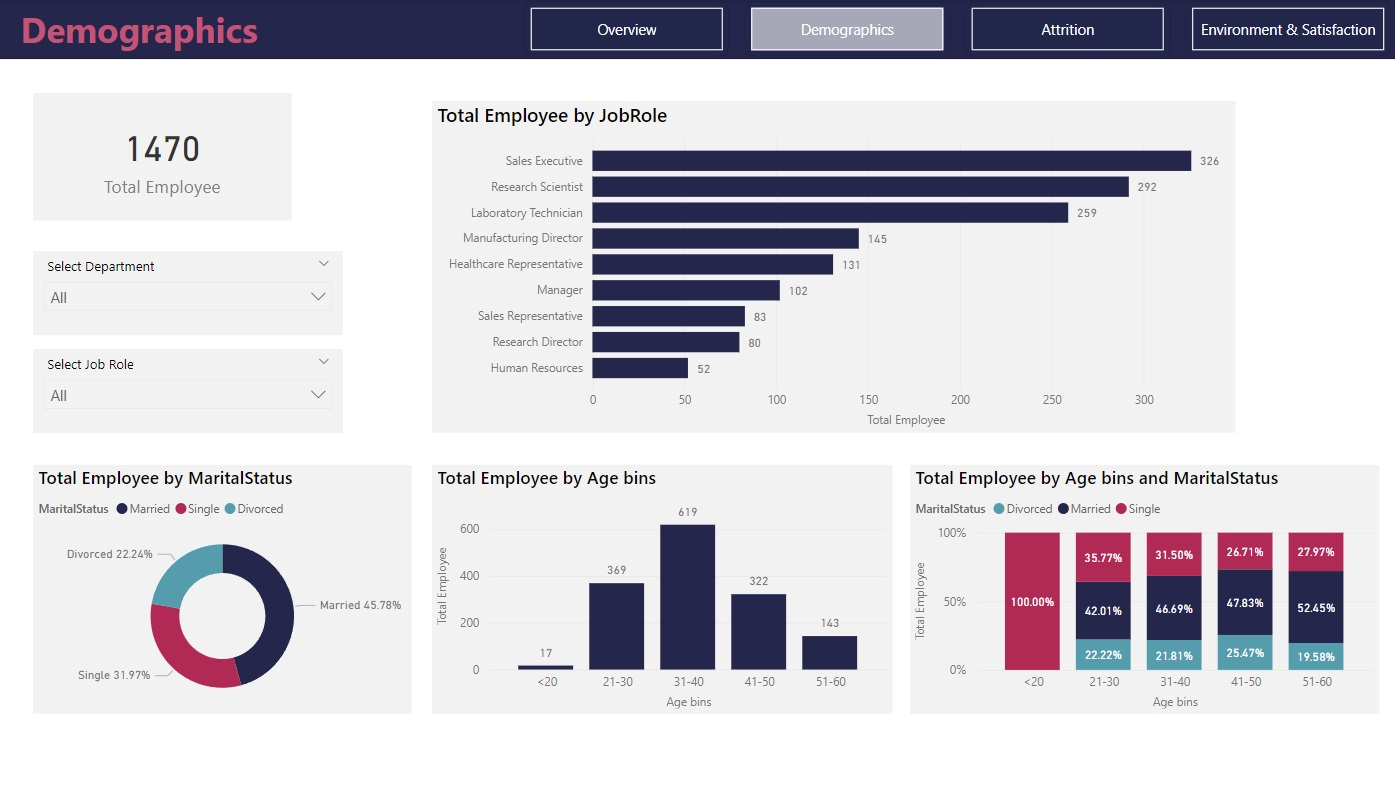

Layout of this report page (visuals, bound fields, positions):
{"tool":"powerbi","page":{"name":"Demographics","canvas":[1280,720],"ordinal":1},"visuals":[{"type":"donutChart","fields":{"Category":["Attrition_Performance.MaritalStatus"],"Y":["_Measures.Total Employee"]},"box":[31.2,426.7,346.9,228.4],"z":0},{"type":"hundredPercentStackedColumnChart","fields":{"Category":["Attrition_Performance.Age bins"],"Series":["Attrition_Performance.MaritalStatus"],"Y":["_Measures.Total Employee"]},"box":[835,426.7,429.9,228.4],"z":1000},{"type":"card","fields":{"Values":["_Measures.Total Employee"]},"box":[31.2,86.2,237,117.4],"z":2000},{"type":"clusteredColumnChart","fields":{"Category":["Attrition_Performance.Age bins"],"Y":["_Measures.Total Employee"]},"box":[396.5,426.7,422.4,228.4],"z":3000},{"type":"clusteredBarChart","fields":{"Category":["Attrition_Performance.JobRole"],"Y":["_Measures.Total Employee"]},"box":[396.5,93.7,735.9,303.8],"z":4000},{"type":"shape","box":[0,0,1280,55],"z":5000},{"type":"textbox","box":[15.1,0,242.4,58.2],"z":6000},{"type":"pageNavigator","box":[479.5,0,800.5,55],"z":7000},{"type":"slicer","title":"Select Job Role","fields":{"Values":["Attrition_Performance.JobRole"]},"box":[31.5,320.5,283.9,77.3],"z":8000},{"type":"slicer","title":"Select Job Role","fields":{"Values":["Attrition_Performance.Department"]},"box":[31.5,231,283.9,77.3],"z":9000}]}

Visuals, with their boxes in screenshot pixels (x1, y1, x2, y2), scaled from the page's 1280x720 canvas onto the 1395x785 screenshot:
donutChart - Attrition_Performance.MaritalStatus x _Measures.Total Employee: [x1=34, y1=465, x2=412, y2=714]
hundredPercentStackedColumnChart - Attrition_Performance.Age bins x Attrition_Performance.MaritalStatus: [x1=910, y1=465, x2=1379, y2=714]
card - _Measures.Total Employee: [x1=34, y1=94, x2=292, y2=222]
clusteredColumnChart - Attrition_Performance.Age bins x _Measures.Total Employee: [x1=432, y1=465, x2=892, y2=714]
clusteredBarChart - Attrition_Performance.JobRole x _Measures.Total Employee: [x1=432, y1=102, x2=1234, y2=433]
shape: [x1=0, y1=0, x2=1394, y2=60]
textbox: [x1=16, y1=0, x2=281, y2=63]
pageNavigator: [x1=523, y1=0, x2=1394, y2=60]
"Select Job Role" slicer: [x1=34, y1=349, x2=344, y2=434]
"Select Job Role" slicer: [x1=34, y1=252, x2=344, y2=336]
